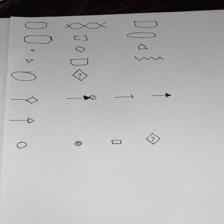association: (16, 140, 28, 149)
complex-sbgn: (25, 21, 48, 30)
control: (11, 96, 39, 103)
degradation: (66, 94, 96, 102)
dissociation: (72, 139, 83, 147)
dsNA: (65, 21, 106, 30)
generic-sbgn: (10, 70, 37, 81)
halfround-rectangle: (134, 20, 158, 28), (70, 57, 89, 66)
inhibition: (114, 92, 134, 101)
macromolecule: (24, 34, 53, 44)
no-glyph-assigned: (73, 34, 88, 41)
process: (111, 138, 122, 145)
protein: (126, 31, 156, 38)
replacement-glyph: (72, 68, 88, 82), (145, 132, 161, 145)
simple-chemical-circle: (30, 48, 36, 53)
simple-chemical-hexagon: (75, 45, 85, 53)
simple-chemical-pentagon: (137, 42, 148, 50)
simple-chemical-triangle: (25, 58, 34, 63)
ssNA: (133, 55, 166, 61)
stimulation: (8, 117, 34, 123)
